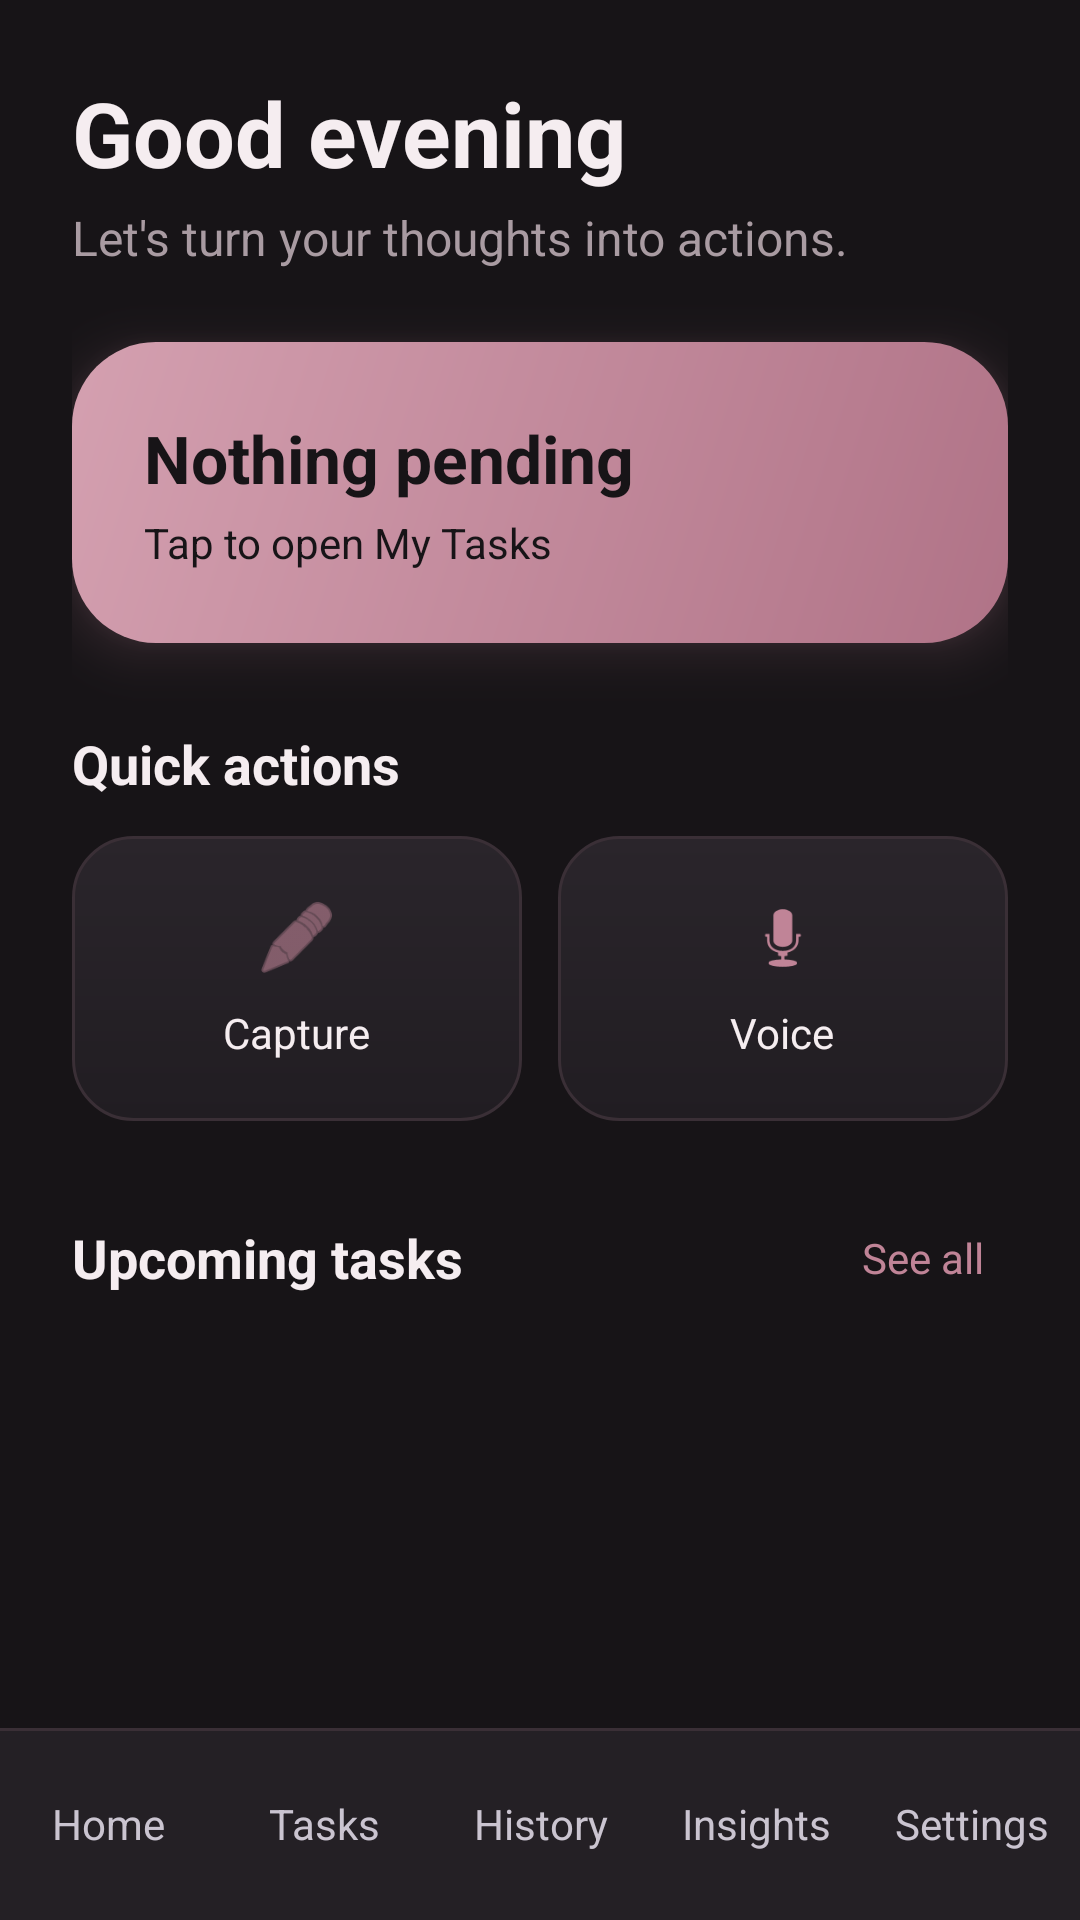

Icon click points for this 1080x1920 phone screenshot, format [x,y]:
edit: [296,937]
speak now: [783,938]
